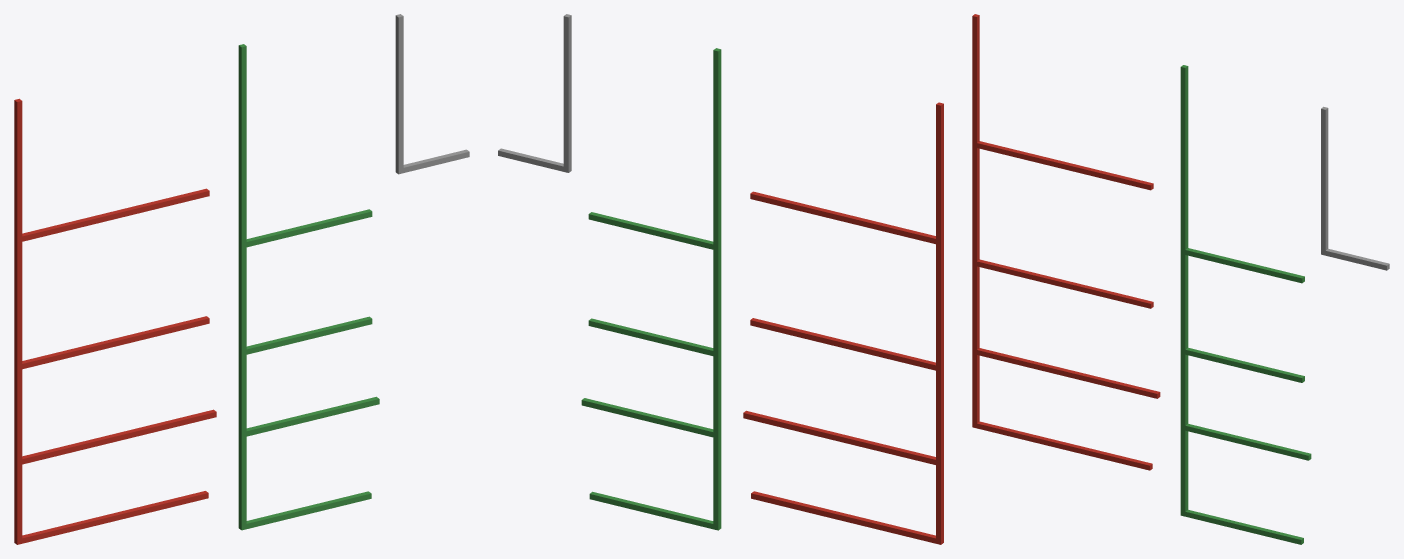
The model's file is wire+set.fbx.
3 views of the same model, side by side, from view 1: azimuth 30°, elevation 25°; view 2: azimuth 150°, elevation 25°; view 3: azimuth 330°, elevation 25° (orthographic). The views are drawn at different scales.
Parts seen in each view (by area): view 1: Body1 (×3); view 2: Body1 (×3); view 3: Body1 (×3).
Boxes of the visible parts, <box> form: Body1 (×3): <box>14,14,469,544</box>; Body1 (×3): <box>498,14,943,544</box>; Body1 (×3): <box>972,14,1389,544</box>.
Bounding box in the file's own units: 351 × 360 × 8.
